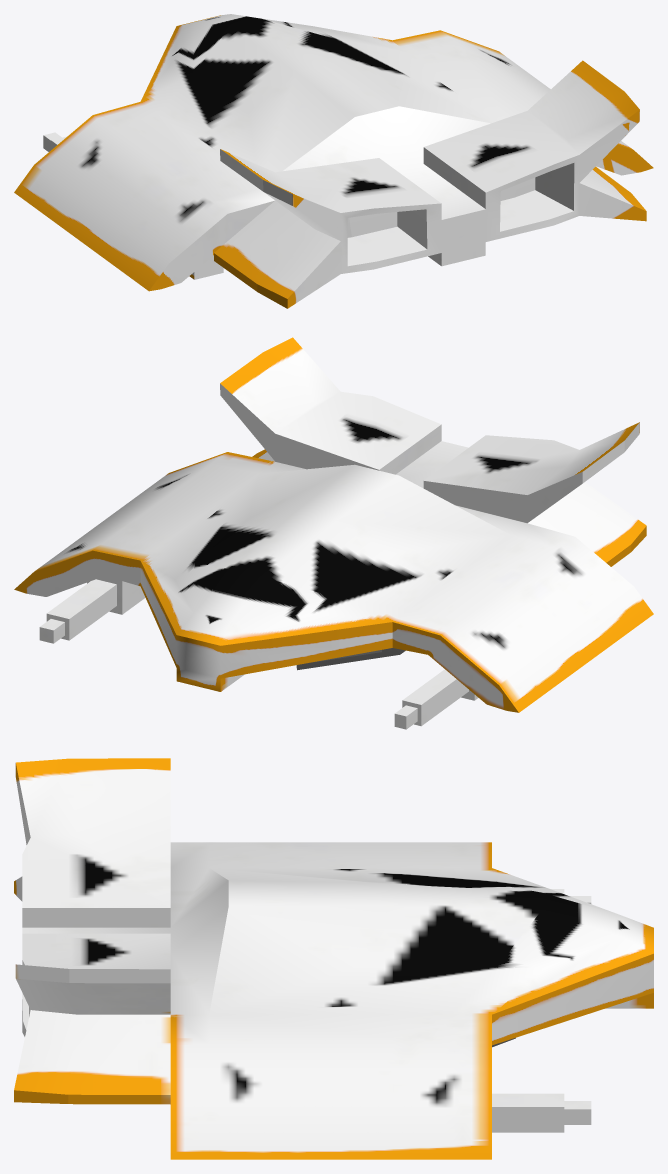
File: SHIPFIX.fbx
3 views of the same model, one above another, from view 1: azimuth 30°, elevation 25°; view 2: azimuth 150°, elevation 25°; view 3: azimuth 270°, elevation 25° (orthographic). The views are drawn at different scales.
Parts seen in each view (by area): view 1: pCube1; view 2: pCube1; view 3: pCube1.
Part boxes in pixels (x1=…): pCube1: x1=14, y1=14, x2=653, y2=308; pCube1: x1=14, y1=337, x2=653, y2=729; pCube1: x1=14, y1=758, x2=653, y2=1159.
Bounding box in the file's own units: 11.42 × 3.04 × 10.51.
Materials: 1 (1 with a texture image).
